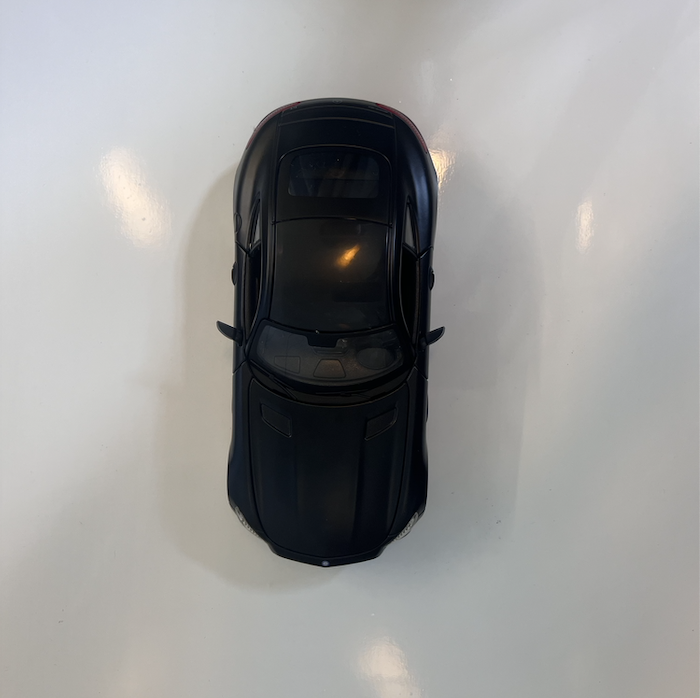car: (215, 98, 445, 569)
